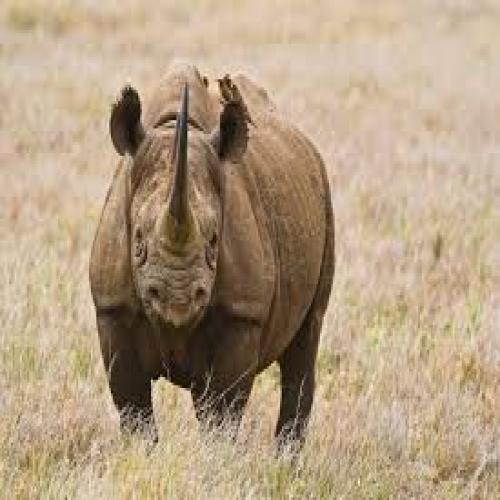rhino-endangered: (96, 63, 332, 439)
